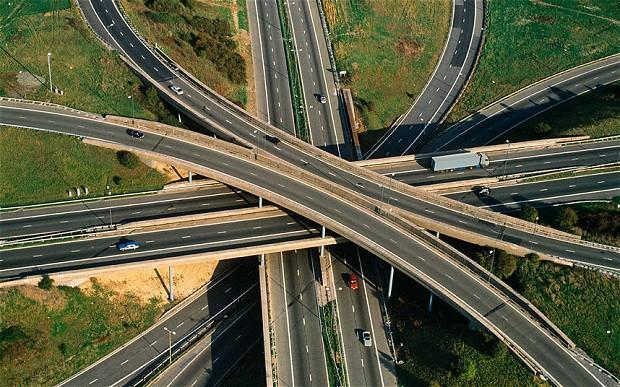car: (426, 149, 498, 172), (121, 125, 148, 144), (355, 329, 375, 351), (115, 239, 142, 255), (165, 80, 188, 98), (346, 270, 363, 291), (316, 92, 332, 107)
